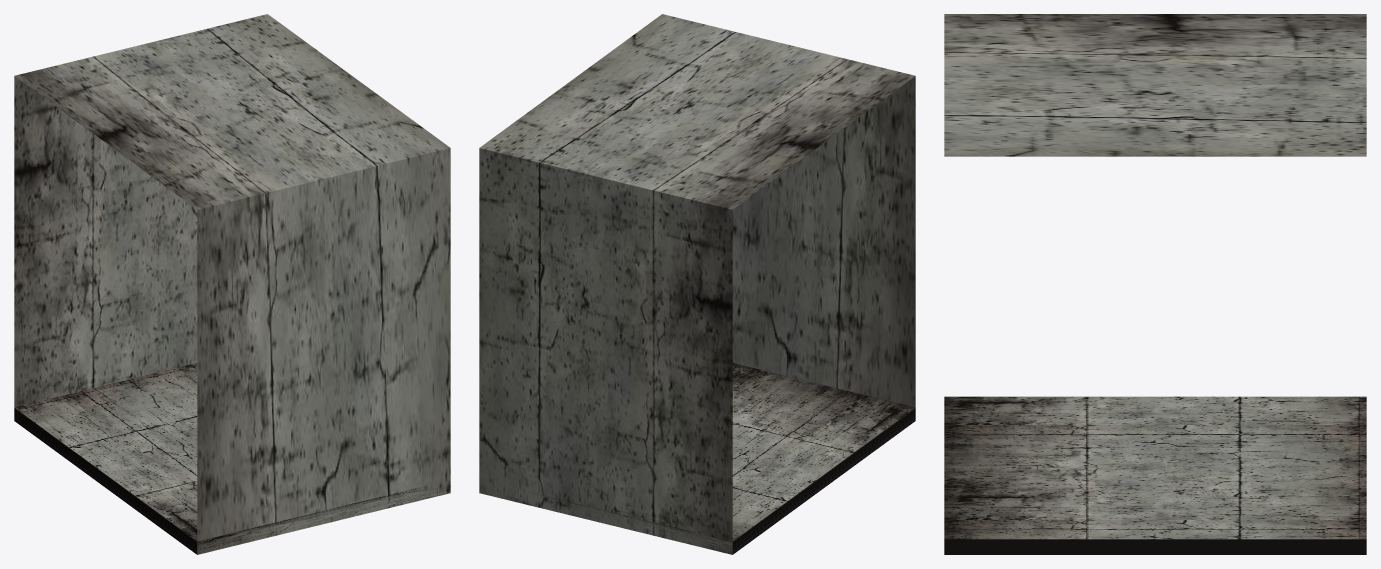
3 views of the same model, side by side, from view 1: azimuth 30°, elevation 25°; view 2: azimuth 150°, elevation 25°; view 3: azimuth 270°, elevation 25° (orthographic). The views are drawn at different scales.
Visible parts, largest first — view 1: PasoEstar; view 2: PasoEstar; view 3: PasoEstar.
Part boxes in pixels (x1,y1,x2,y2): PasoEstar: [14, 14, 450, 554]; PasoEstar: [479, 14, 915, 554]; PasoEstar: [944, 14, 1366, 554].
Size of the model in its own units: 4 by 5.2 by 5.
1 material, 1 textured.
